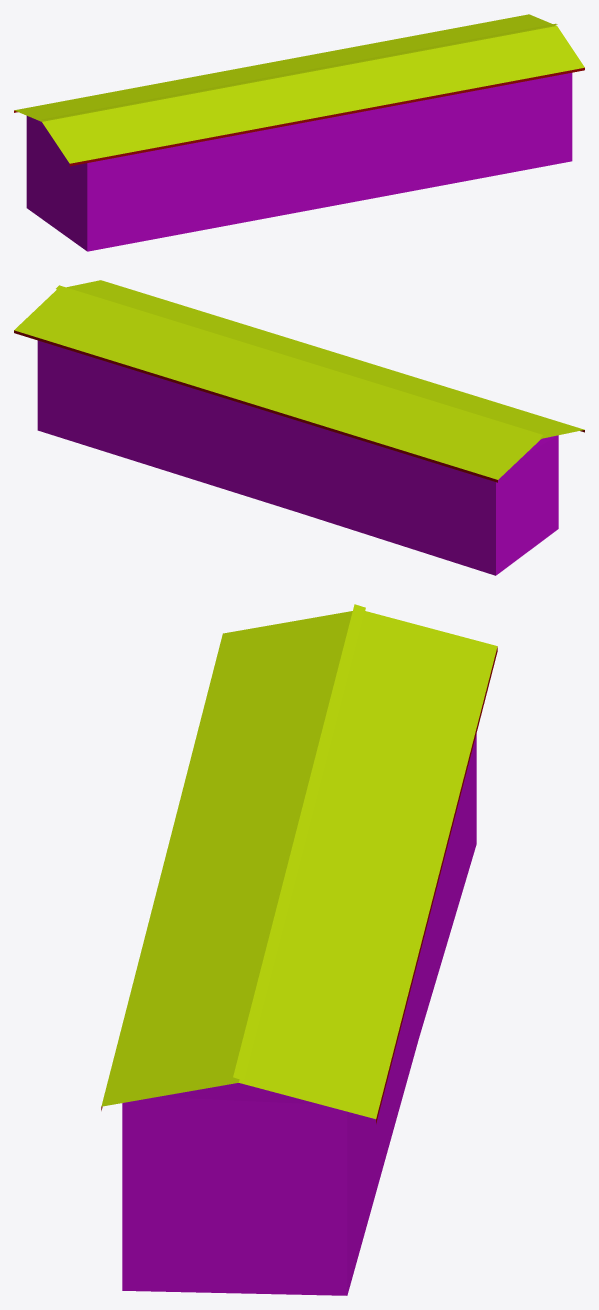
File: lct_6.glb
3 renders of one model, top to bottom at view 1: azimuth 30°, elevation 25°; view 2: azimuth 150°, elevation 25°; view 3: azimuth 270°, elevation 25°, orthographic. The views are drawn at different scales.
Parts seen in each view (by area): view 1: lct_6; view 2: lct_6; view 3: lct_6.
Boxes of the visible parts, bbox=[...] form: lct_6: bbox=[14, 14, 584, 251]; lct_6: bbox=[14, 280, 584, 575]; lct_6: bbox=[101, 604, 497, 1295].
Size of the model in its own units: 24.01 by 5.23 by 8.28.
